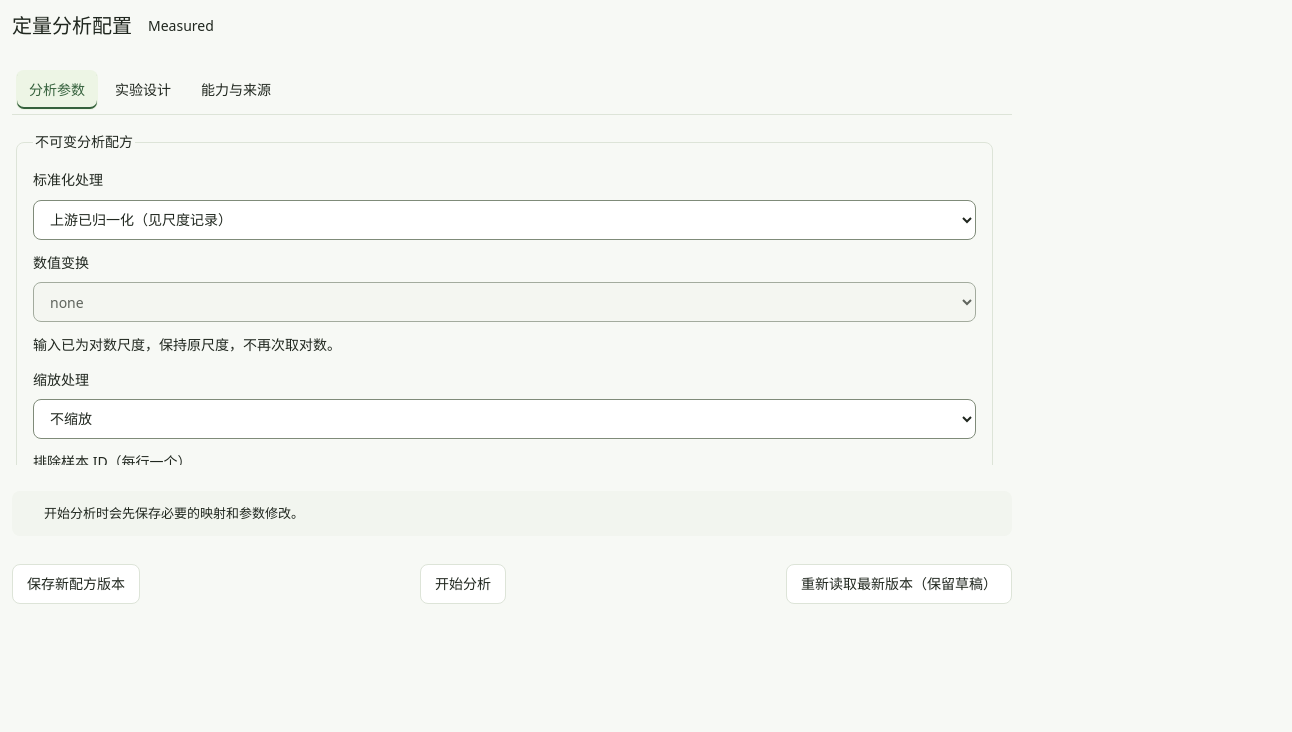
Scenario: does not automatically run when the head advanced past the recipe just saved
Earlier steps of the test are not shown.
Click the button "开始分析" at (463, 584), box [420,564,506,604]
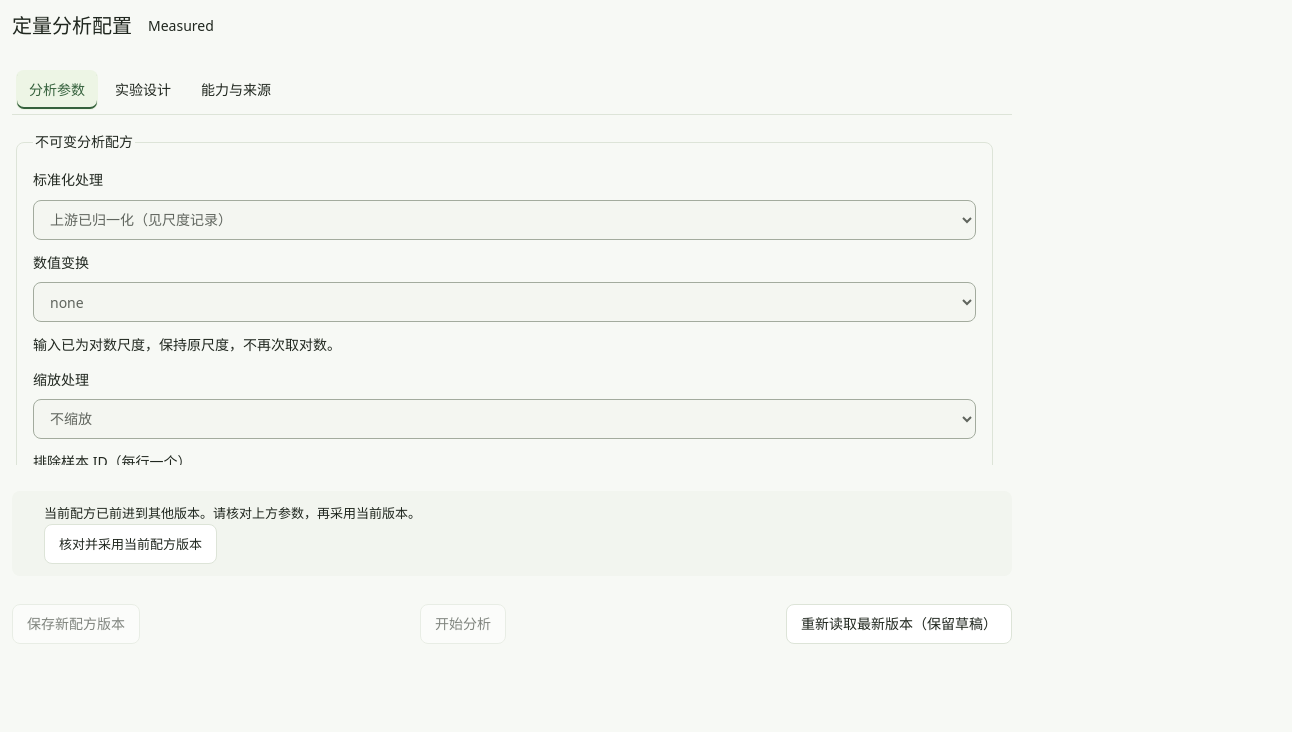
Expected: the button "核对并采用当前配方版本" is shown, [44,524,217,564]
